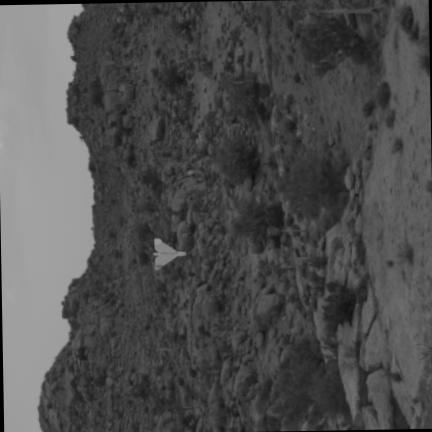Shahed: (152, 237, 186, 268)
